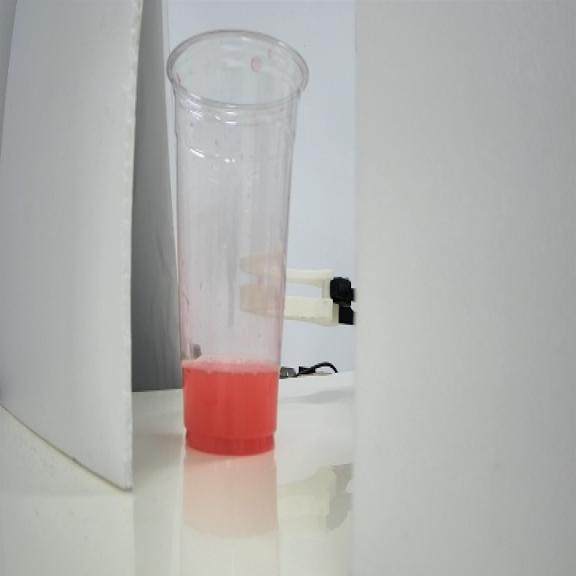Plastik: (168, 32, 308, 454)
